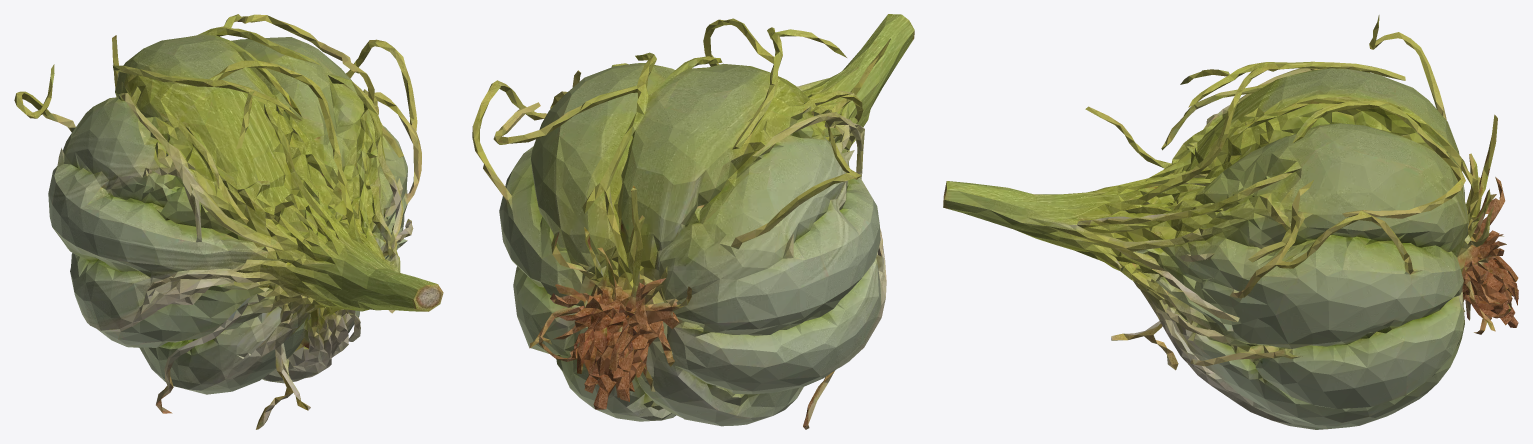
The model's file is wing (57).glb.
3 renders of one model, left to right at view 1: azimuth 30°, elevation 25°; view 2: azimuth 150°, elevation 25°; view 3: azimuth 270°, elevation 25°, orthographic. The views are drawn at different scales.
Visible parts, largest first — view 1: Hy21_Mesh.obj; view 2: Hy21_Mesh.obj; view 3: Hy21_Mesh.obj.
Boxes of the visible parts, left/top/right/bottom form: Hy21_Mesh.obj: left=14, top=14, right=443, bottom=429; Hy21_Mesh.obj: left=472, top=14, right=914, bottom=429; Hy21_Mesh.obj: left=943, top=15, right=1518, bottom=429.
Bounding box in the file's own units: 1.38 × 1.27 × 1.95.
1 material, 1 textured.
